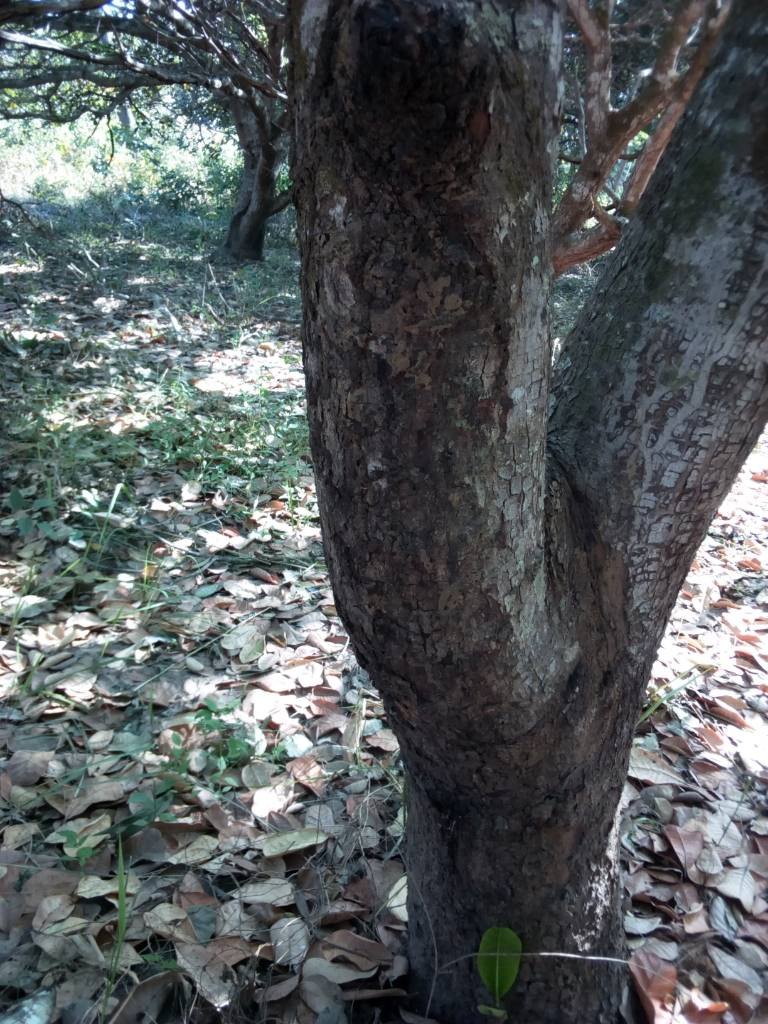Termites: (304, 7, 546, 688)
